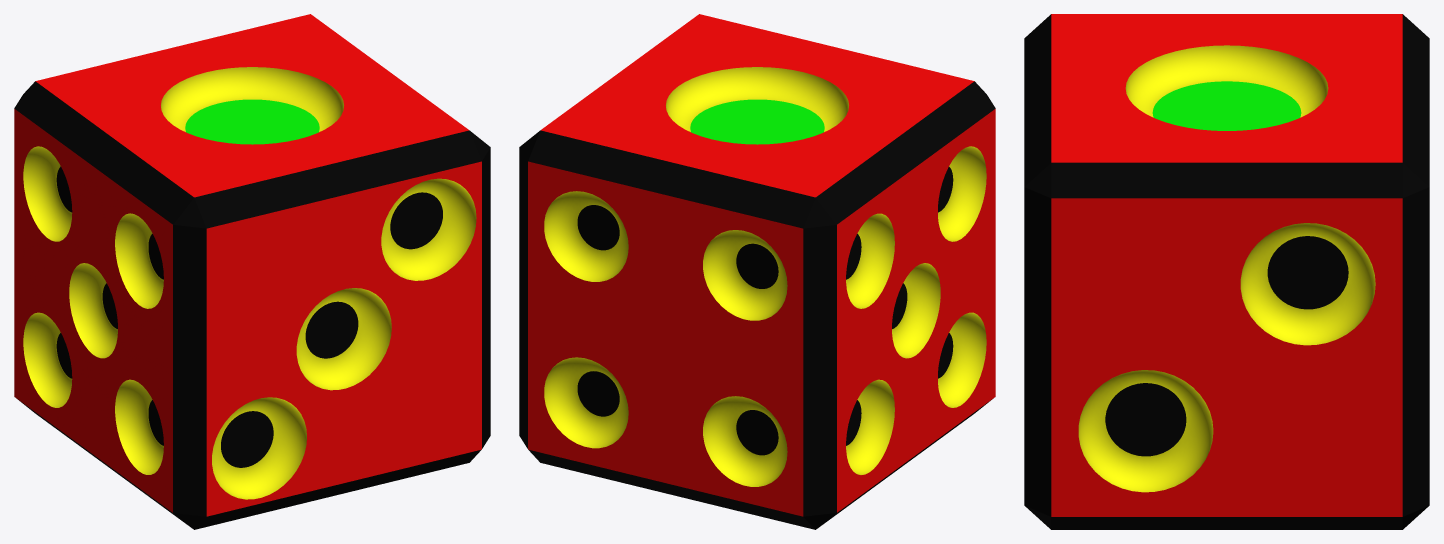
The picture shows the model from 3 angles, left to right: view 1: azimuth 30°, elevation 25°; view 2: azimuth 150°, elevation 25°; view 3: azimuth 270°, elevation 25°; orthographic projection. The views are drawn at different scales.
Visible parts, largest first — view 1: Part1; view 2: Part1; view 3: Part1.
Part boxes in pixels (x1,y1,x2,y2): Part1: (14,14,490,529); Part1: (519,14,995,529); Part1: (1024,14,1429,529).
Bounding box in the file's own units: 0.03 × 0.03 × 0.03.
